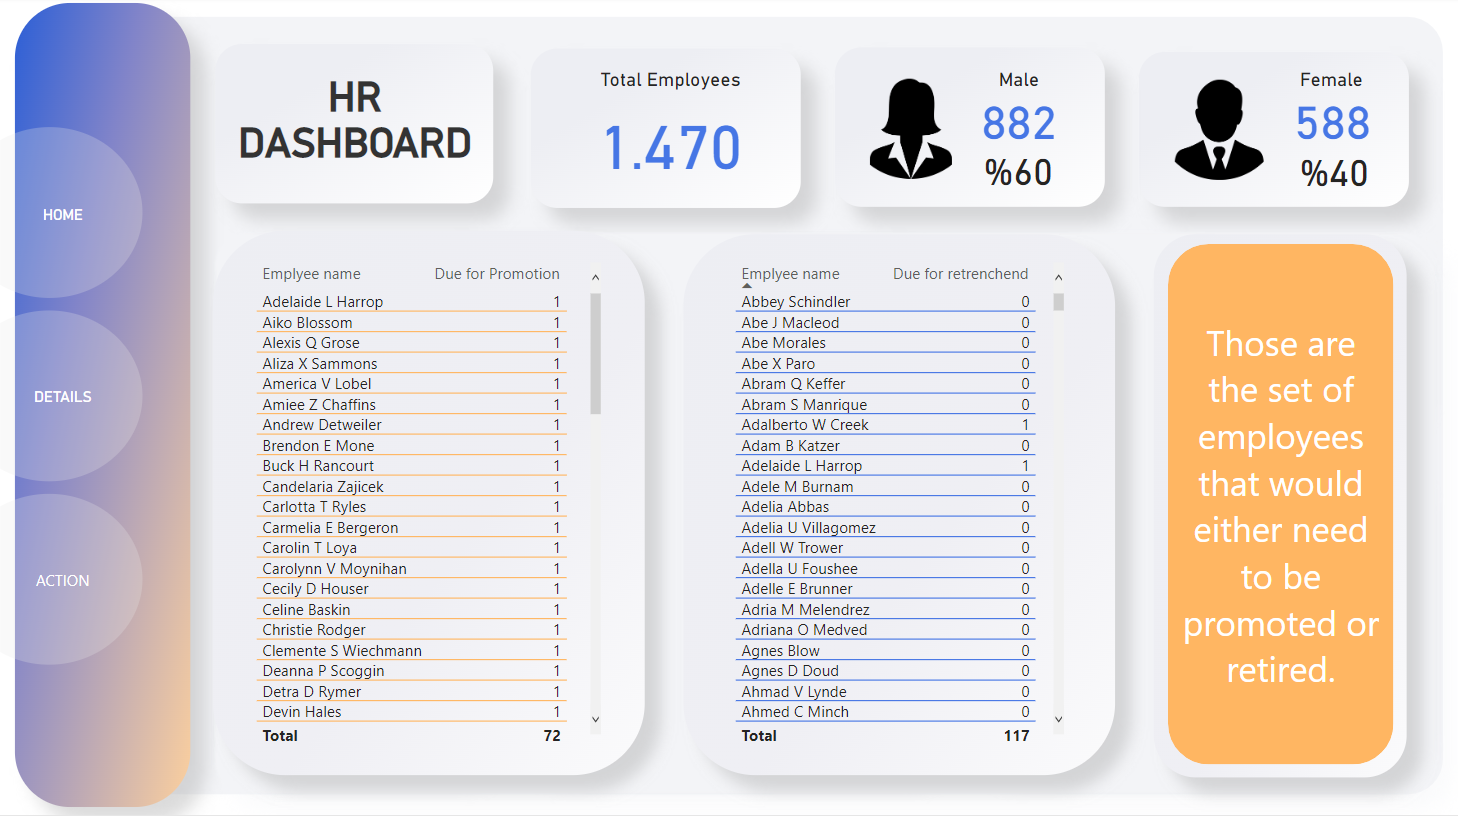

What the dashboard file says about the page in this screenshot:
{"tool":"powerbi","page":{"name":"ACTION","canvas":[1280,720],"ordinal":2},"visuals":[{"type":"tableEx","fields":{"Values":["HR Analytics Data.Emplyee name","All Measures.Due for Promotion"]},"box":[219.5,228.3,313.5,432.9],"z":0},{"type":"tableEx","fields":{"Values":["HR Analytics Data.Emplyee name","All Measures.Due for retrenchment"]},"box":[640.1,228.3,299.4,432.9],"z":1000},{"type":"pageNavigator","box":[6.1,116.8,98.3,470.6],"z":2000},{"type":"card","title":"Total Employees","fields":{"Values":["All Measures.Total Emp"]},"box":[510.1,62.3,157.2,106.2],"z":3000},{"type":"card","title":"Male","fields":{"Values":["All Measures.Male"]},"box":[830.6,62.3,128.2,69.4],"z":4000},{"type":"card","title":"Female","fields":{"Values":["All Measures.Female"]},"box":[1102.8,62.3,132.6,69.4],"z":5000},{"type":"shape","box":[1025.6,216.9,198.4,457.5],"z":6000},{"type":"card","fields":{"Values":["All Measures.% Male"]},"box":[855.2,127.3,78.1,48.3],"z":7000},{"type":"card","fields":{"Values":["All Measures.% Female"]},"box":[1132.7,127.3,78.1,49.2],"z":8000},{"type":"textbox","title":"HR DASHBOARD","box":[197.6,65.9,228.3,109.8],"z":9000},{"type":"image","box":[756,65.9,96.6,93.1],"z":9001},{"type":"image","box":[1030,62.3,91.3,96.6],"z":9002}]}

Visuals, with their boxes in screenshot pixels (x1, y1, x2, y2), scaled from the page's 1280x720 canvas onto the 1458x816 screenshot:
tableEx - HR Analytics Data.Emplyee name x All Measures.Due for Promotion: {"left": 250, "top": 259, "right": 607, "bottom": 749}
tableEx - HR Analytics Data.Emplyee name x All Measures.Due for retrenchment: {"left": 729, "top": 259, "right": 1070, "bottom": 749}
pageNavigator: {"left": 7, "top": 132, "right": 119, "bottom": 666}
"Total Employees" card: {"left": 581, "top": 71, "right": 760, "bottom": 191}
"Male" card: {"left": 946, "top": 71, "right": 1092, "bottom": 149}
"Female" card: {"left": 1256, "top": 71, "right": 1407, "bottom": 149}
shape: {"left": 1168, "top": 246, "right": 1394, "bottom": 764}
card - All Measures.% Male: {"left": 974, "top": 144, "right": 1063, "bottom": 199}
card - All Measures.% Female: {"left": 1290, "top": 144, "right": 1379, "bottom": 200}
"HR DASHBOARD" textbox: {"left": 225, "top": 75, "right": 485, "bottom": 199}
image: {"left": 861, "top": 75, "right": 971, "bottom": 180}
image: {"left": 1173, "top": 71, "right": 1277, "bottom": 180}
